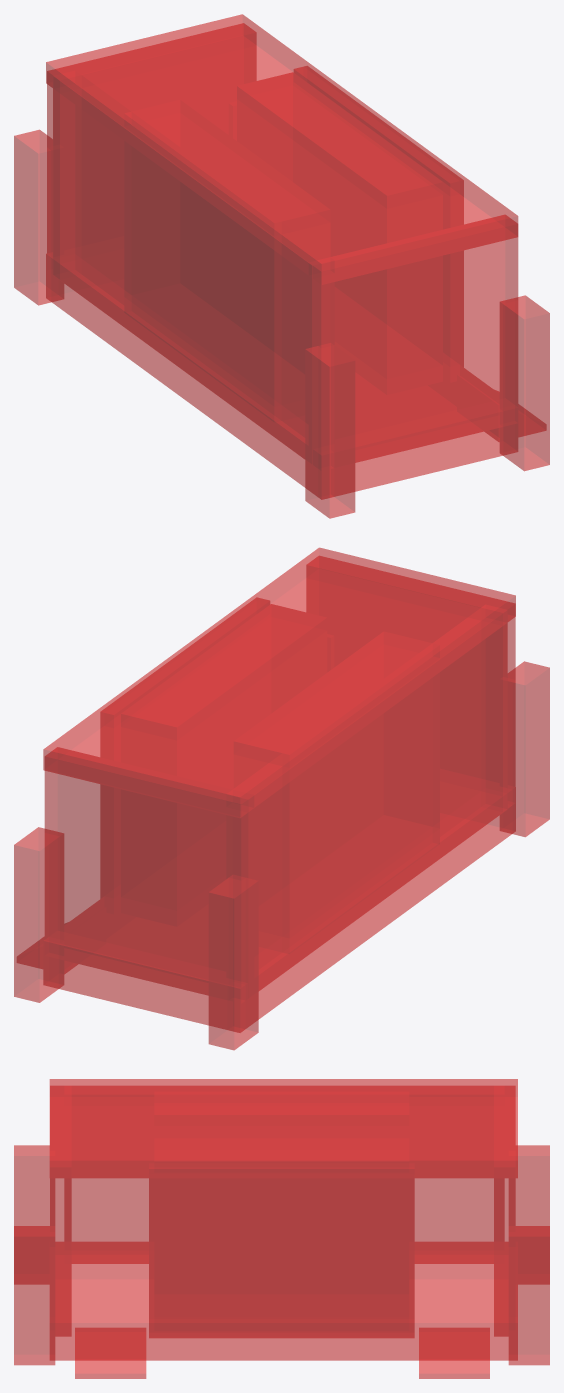
File: SM_Prop_Drone_Control_Room_01_Collision.fbx
3 renders of one model, top to bottom at view 1: azimuth 30°, elevation 25°; view 2: azimuth 150°, elevation 25°; view 3: azimuth 270°, elevation 25°, orthographic. The views are drawn at different scales.
Parts seen in each view (by area): view 1: SM_Prop_Drone_Control_Room_01_Collision; view 2: SM_Prop_Drone_Control_Room_01_Collision; view 3: SM_Prop_Drone_Control_Room_01_Collision.
Boxes of the visible parts, x1,y1,x2,y2 form: SM_Prop_Drone_Control_Room_01_Collision: (14, 14, 549, 518); SM_Prop_Drone_Control_Room_01_Collision: (14, 547, 549, 1050); SM_Prop_Drone_Control_Room_01_Collision: (14, 1079, 549, 1378).
Bounding box in the file's own units: 322 × 287 × 696.
